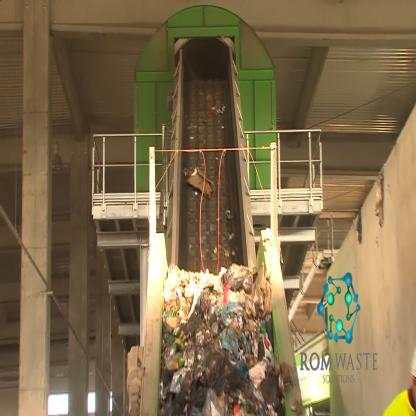Glass Bottle: (176, 355, 184, 370), (260, 321, 266, 338)
